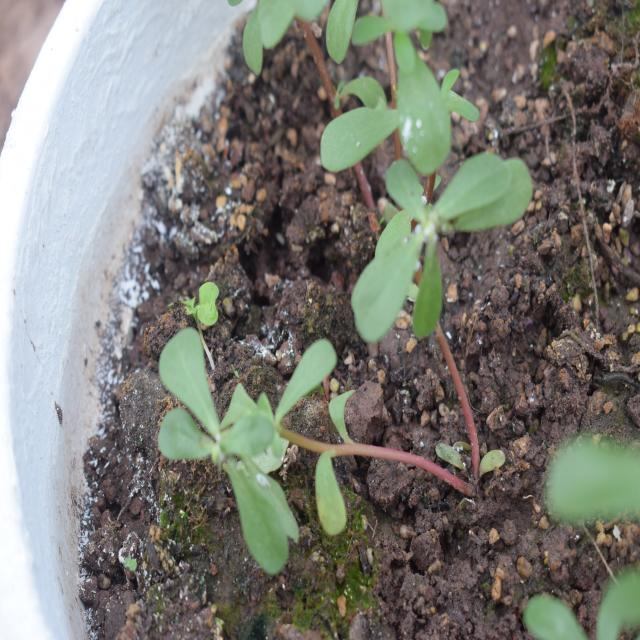purslane: (251, 0, 531, 413), (122, 318, 435, 532)
